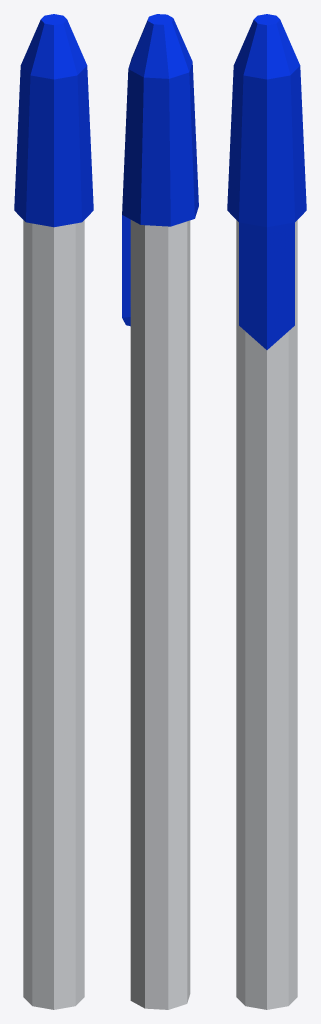
Rendered from Pen_Blue.fbx.
The picture shows the model from 3 angles, left to right: view 1: azimuth 90°, elevation 25°; view 2: azimuth 150°, elevation 25°; view 3: azimuth 270°, elevation 25°; orthographic projection.
Visible parts, largest first — view 1: Pen_blue; view 2: Pen_blue; view 3: Pen_blue.
Boxes of the visible parts, x1=… form: Pen_blue: x1=14, y1=14, x2=93, y2=1009; Pen_blue: x1=122, y1=14, x2=198, y2=1009; Pen_blue: x1=227, y1=14, x2=306, y2=1009.
Bounding box in the file's own units: 1.29 × 17.5 × 1.29.
